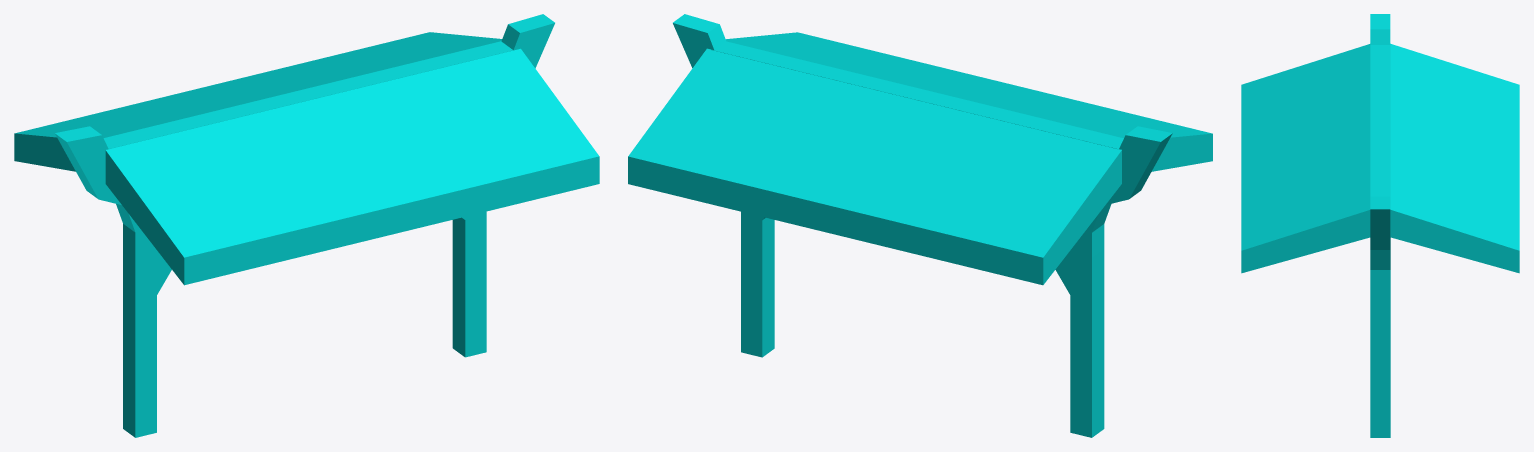
Rendered from SM_Prop_Tent_02_Collision.fbx.
3 renders of one model, left to right at view 1: azimuth 30°, elevation 25°; view 2: azimuth 150°, elevation 25°; view 3: azimuth 270°, elevation 25°, orthographic. The views are drawn at different scales.
Parts seen in each view (by area): view 1: SM_Prop_Tent_02_Collision; view 2: SM_Prop_Tent_02_Collision; view 3: SM_Prop_Tent_02_Collision.
Part boxes in pixels (x1,y1,x2,y2): SM_Prop_Tent_02_Collision: (14, 14, 599, 437); SM_Prop_Tent_02_Collision: (628, 14, 1212, 437); SM_Prop_Tent_02_Collision: (1241, 14, 1519, 437).
Size of the model in its own units: 569 by 348 by 343.
